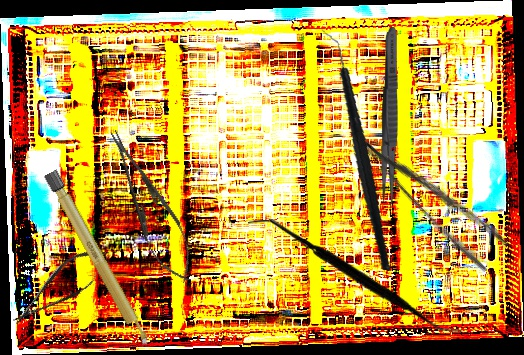Chopper: (289, 29, 423, 271)
Dressing Forceps: (346, 105, 512, 276), (379, 26, 401, 209)
Micro Scissor: (4, 238, 116, 337)
Needle Holder: (95, 122, 206, 290)
Scalpel Handle: (43, 169, 153, 350)
Spatula Surgical: (247, 216, 464, 337)
